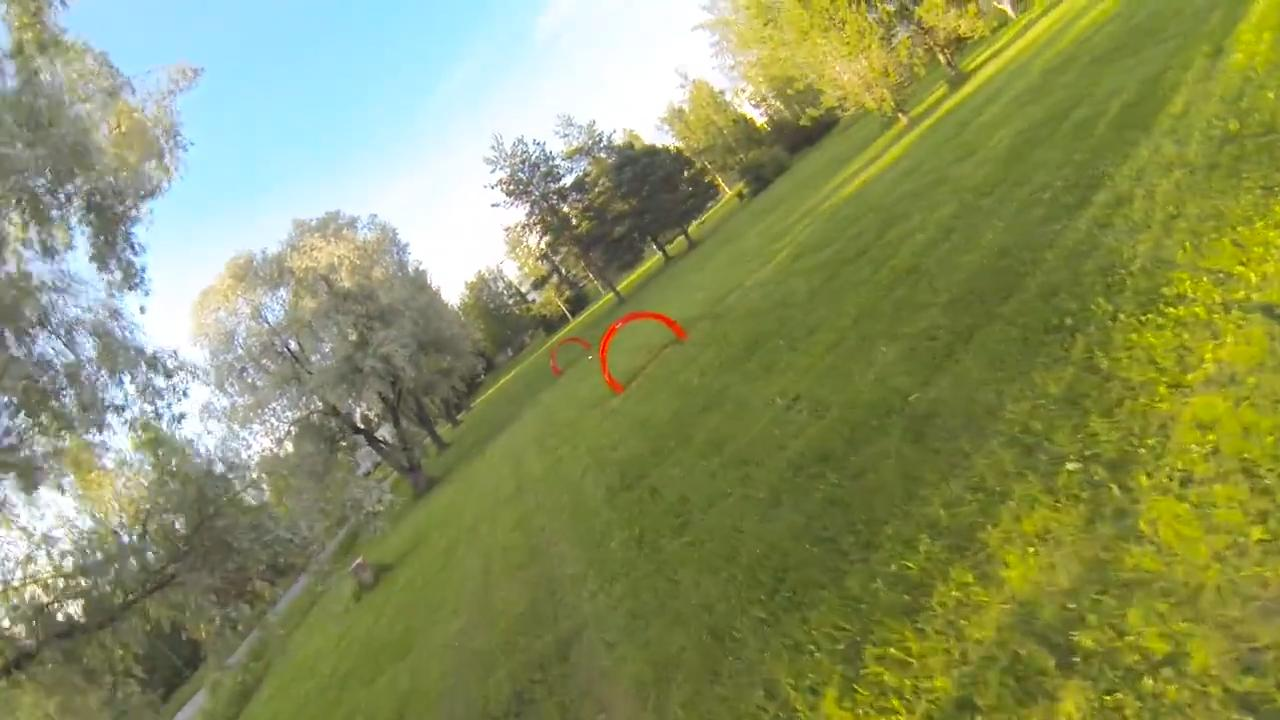gate: (599, 310, 684, 392)
